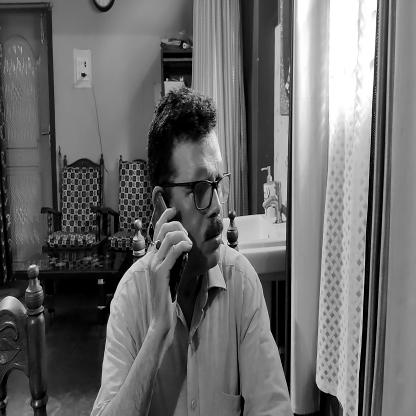Distracted: (145, 83, 226, 286)
